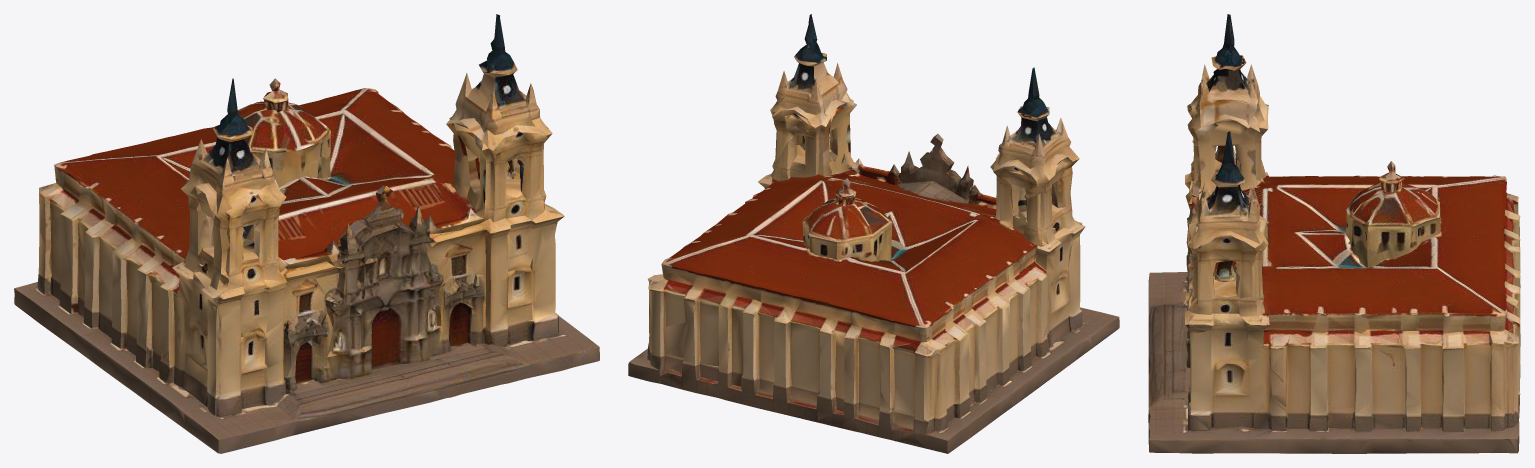
File: lima-cathedral.glb
3 views of the same model, side by side, from view 1: azimuth 30°, elevation 25°; view 2: azimuth 150°, elevation 25°; view 3: azimuth 270°, elevation 25° (orthographic). The views are drawn at different scales.
Visible parts, largest first — view 1: logan-textured.obj; view 2: logan-textured.obj; view 3: logan-textured.obj.
Part boxes in pixels (box(x1,y1,x2,y2)): logan-textured.obj: box(14, 14, 599, 453); logan-textured.obj: box(628, 14, 1119, 453); logan-textured.obj: box(1148, 14, 1520, 453).
Size of the model in its own units: 1 by 0.8279 by 0.9354.
1 material, 1 textured.
